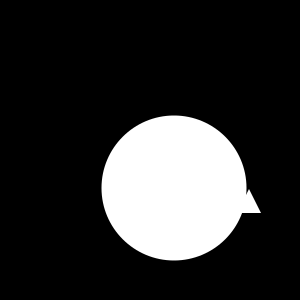rectangle: (101, 116, 246, 260), (178, 222, 200, 246)
triangle: (237, 189, 261, 213)
